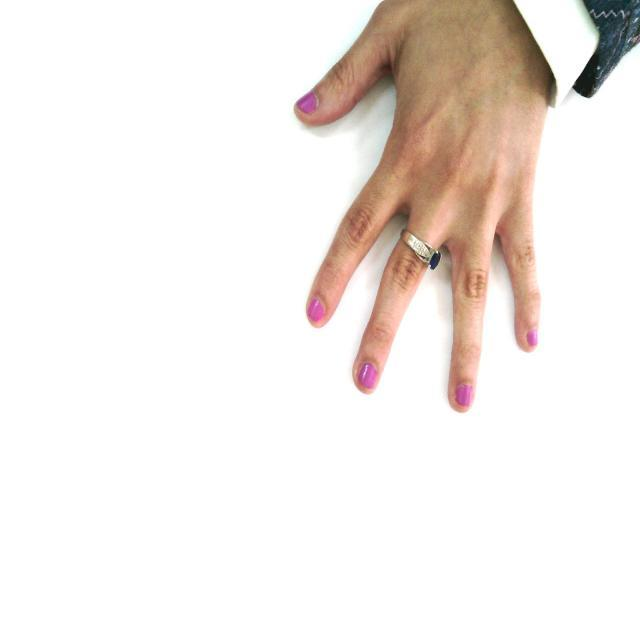Fingernail: (359, 363, 378, 390), (296, 93, 315, 113), (309, 300, 324, 325), (456, 385, 472, 407), (527, 330, 537, 346)
